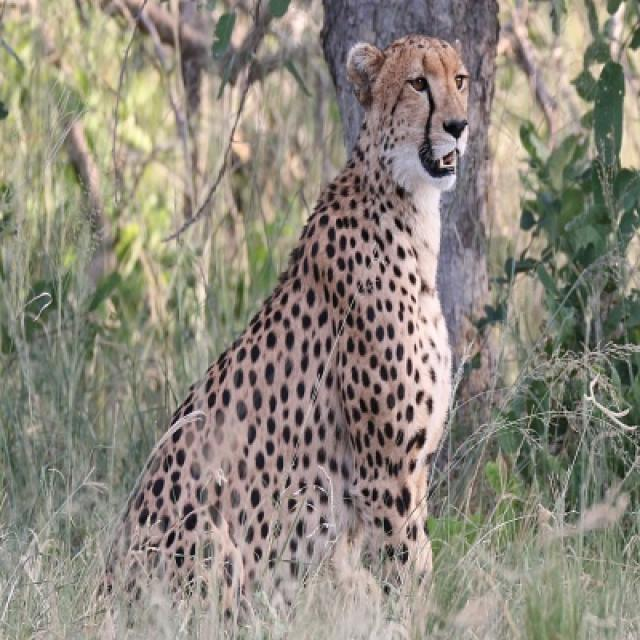Cheetah: (101, 35, 470, 624)
